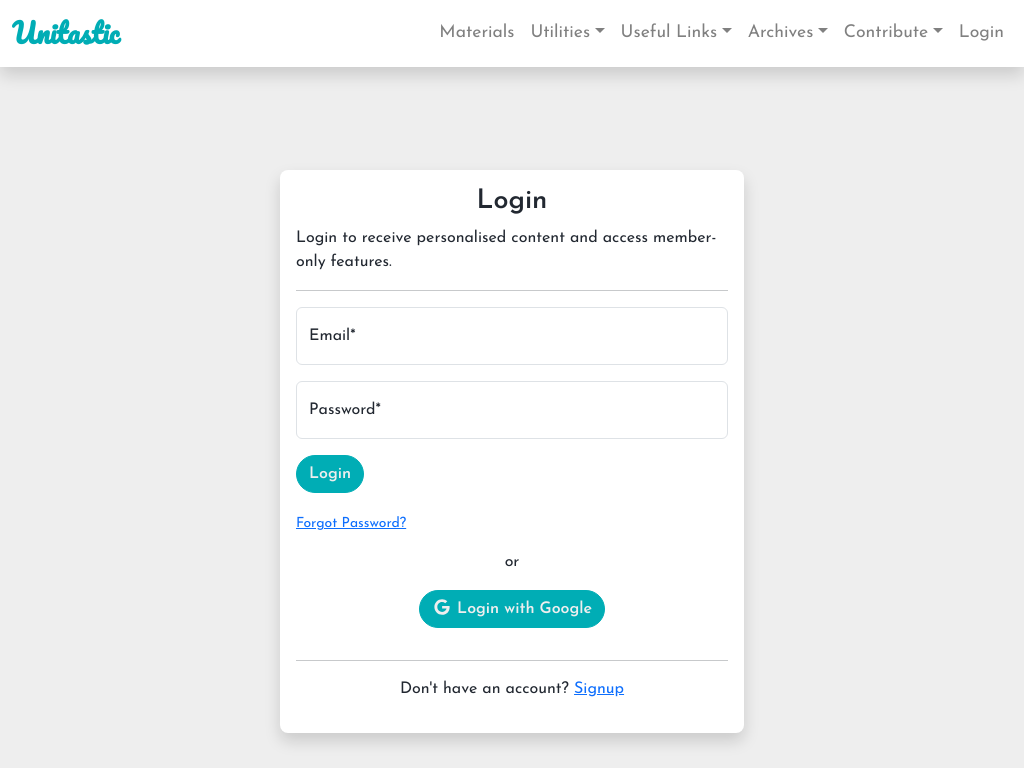
Test: LoginForm Component › handles Google login error
The image size is (1024, 768).
Click the button "Login with Google": (512, 609) [419,590,605,628]
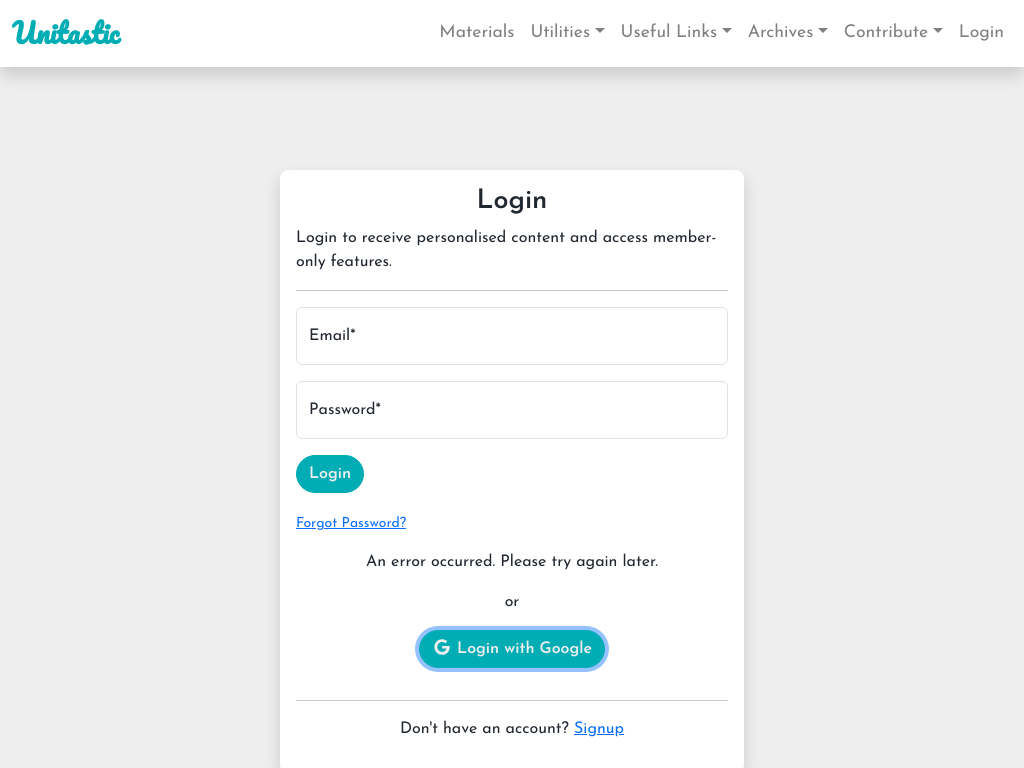
Now the text "An error occurred. Please try again later." is shown, box [366,554,658,570]
